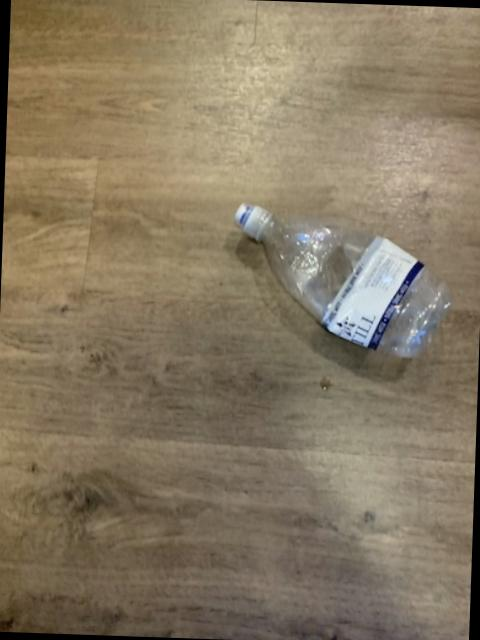plastic: (234, 202, 449, 355)
